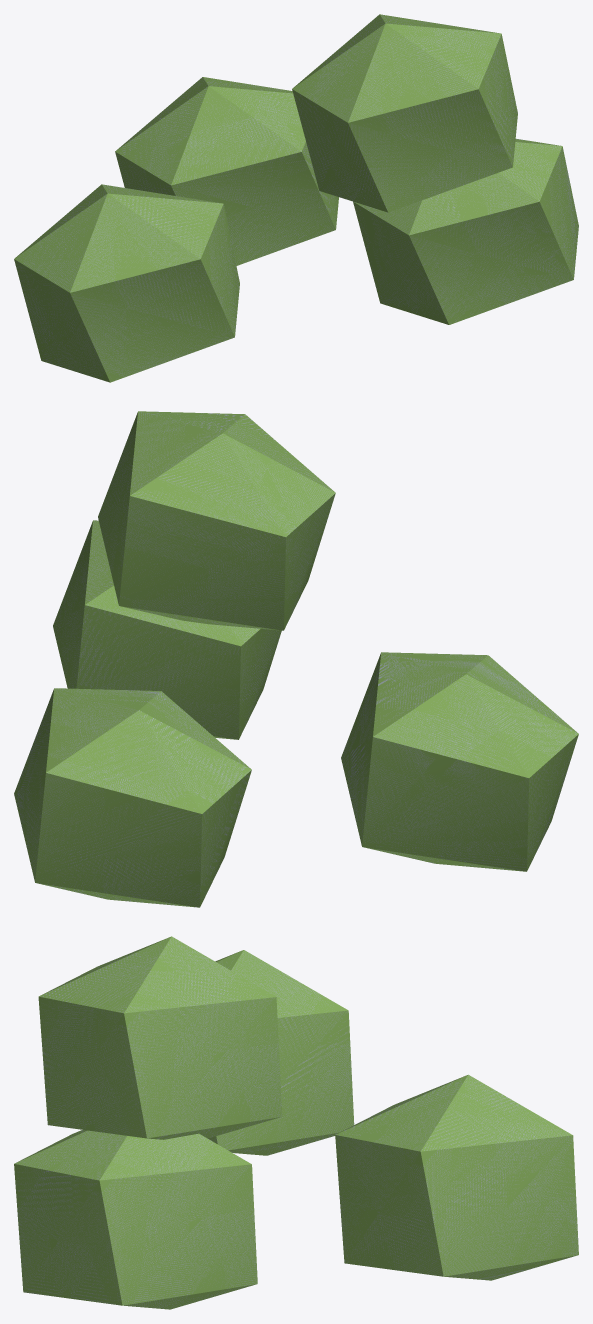
File: Coconuts_Bunch_01.fbx
The picture shows the model from 3 angles, top to bottom: view 1: azimuth 30°, elevation 25°; view 2: azimuth 150°, elevation 25°; view 3: azimuth 270°, elevation 25°; orthographic projection. The views are drawn at different scales.
Parts seen in each view (by area): view 1: Model; view 2: Model; view 3: Model.
Part boxes in pixels (box(x1,y1,x2,y2)): Model: box(14, 14, 578, 382); Model: box(14, 411, 578, 907); Model: box(14, 936, 578, 1309).
Size of the model in its own units: 116 by 68.8 by 96.94.
